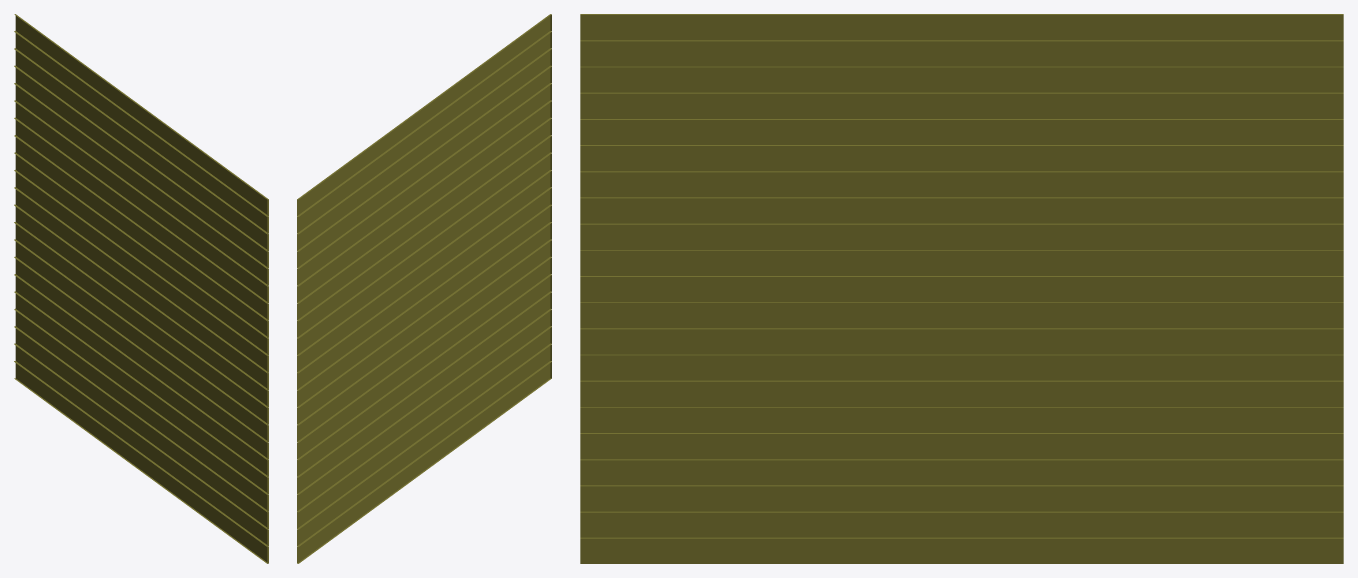
Rendered from Office2_parquet2.fbx.
The picture shows the model from 3 angles, left to right: view 1: azimuth 30°, elevation 25°; view 2: azimuth 150°, elevation 25°; view 3: azimuth 270°, elevation 25°; orthographic projection. The views are drawn at different scales.
Visible parts, largest first — view 1: Office2_parquet2; view 2: Office2_parquet2; view 3: Office2_parquet2.
Part boxes in pixels (box(x1,y1,x2,y2)): Office2_parquet2: box(14, 14, 268, 563); Office2_parquet2: box(297, 14, 551, 563); Office2_parquet2: box(580, 14, 1343, 563).
Bounding box in the file's own units: 1.62 × 367 × 463.
